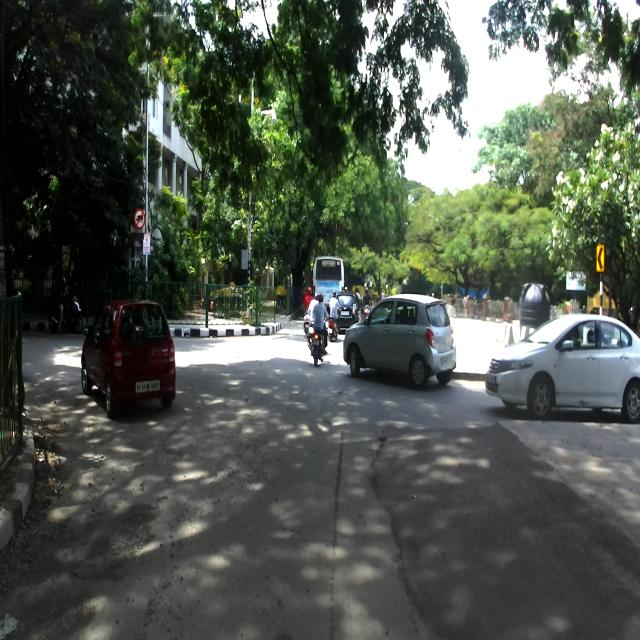car ahead at: (485, 305, 640, 424), (82, 295, 182, 433), (340, 297, 458, 386)
